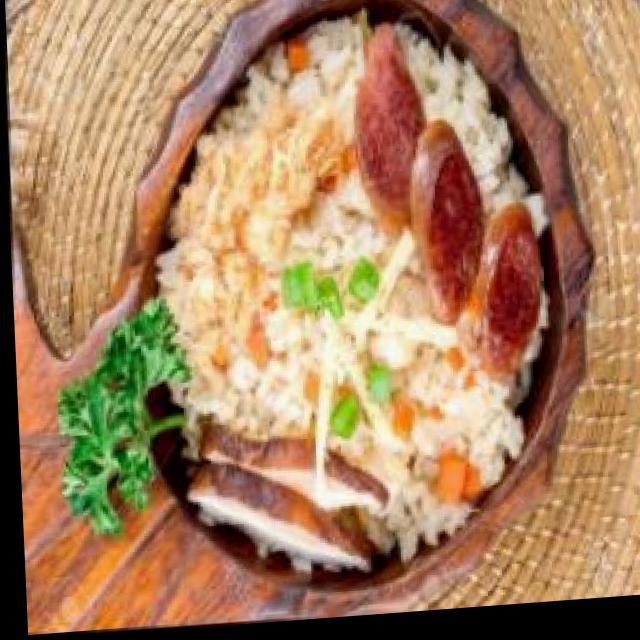chinese_sausage: (347, 22, 547, 393)
